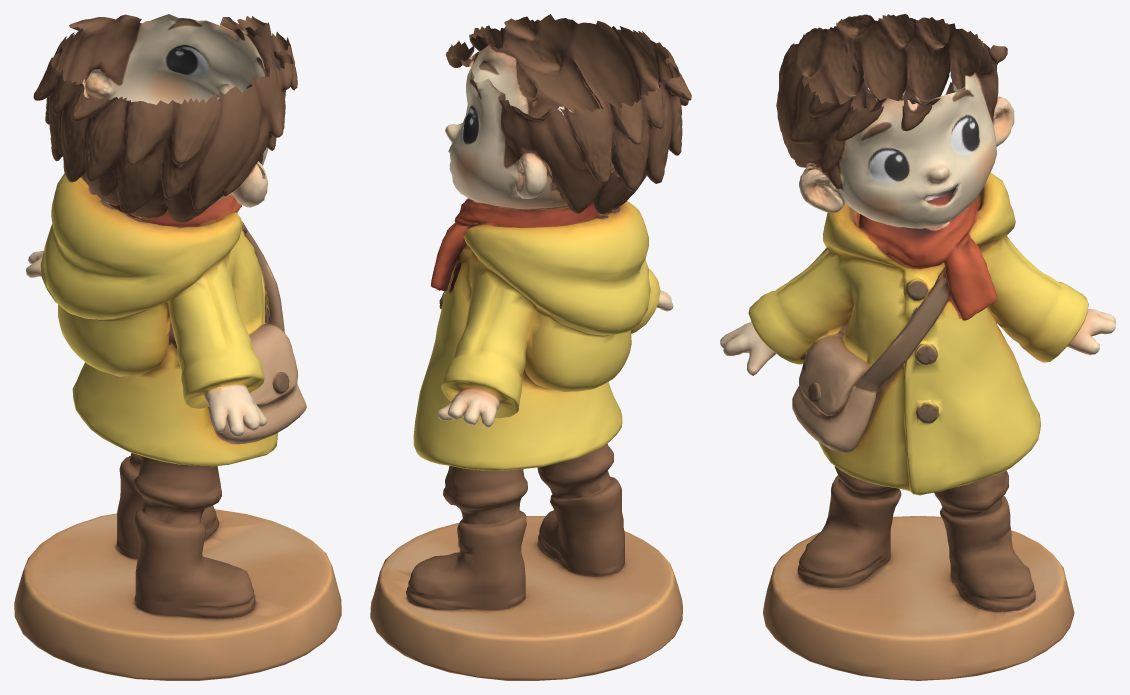
File: detective-yellow-coat.glb
The picture shows the model from 3 angles, left to right: view 1: azimuth 30°, elevation 25°; view 2: azimuth 150°, elevation 25°; view 3: azimuth 270°, elevation 25°; orthographic projection. The views are drawn at different scales.
Parts seen in each view (by area): view 1: tripo_node_f0b3ab29-b1e3-434d-8fc9-86a9f50b350b; view 2: tripo_node_f0b3ab29-b1e3-434d-8fc9-86a9f50b350b; view 3: tripo_node_f0b3ab29-b1e3-434d-8fc9-86a9f50b350b.
Boxes of the visible parts, <box> form: tripo_node_f0b3ab29-b1e3-434d-8fc9-86a9f50b350b: <box>14,14,341,680</box>; tripo_node_f0b3ab29-b1e3-434d-8fc9-86a9f50b350b: <box>370,14,691,680</box>; tripo_node_f0b3ab29-b1e3-434d-8fc9-86a9f50b350b: <box>720,14,1115,680</box>.
Size of the model in its own units: 0.456 by 0.8924 by 0.5812.
Materials: 1 (1 with a texture image).
